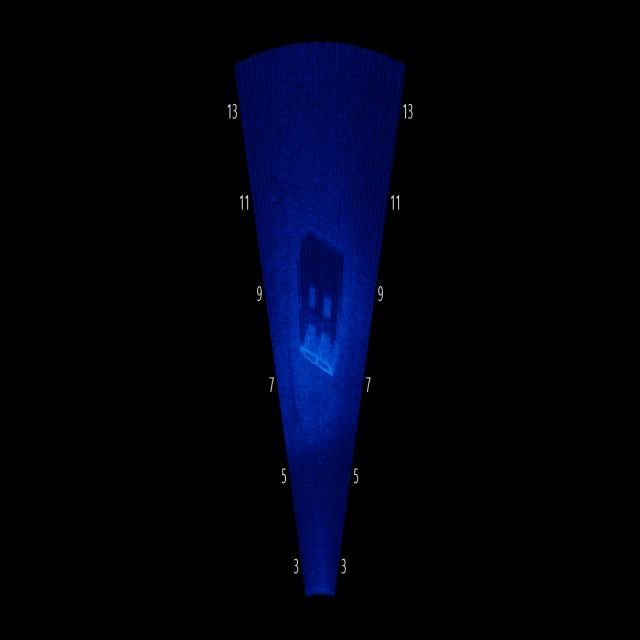square: (288, 306, 348, 393)
